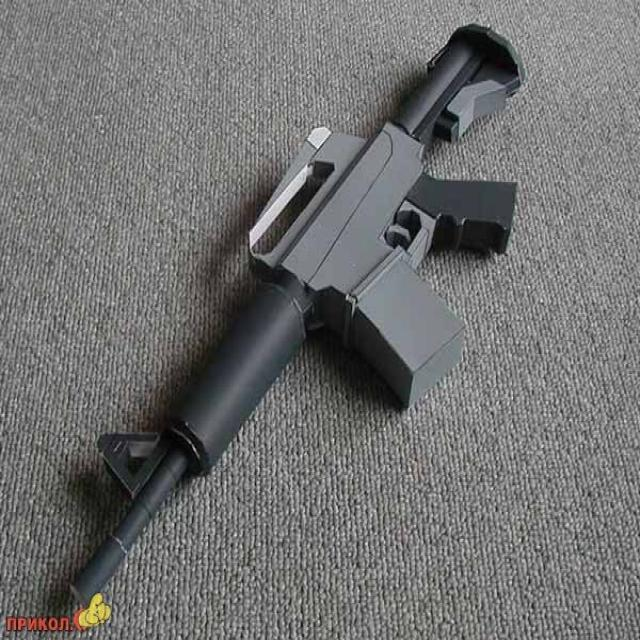firearm: (70, 21, 526, 608)
